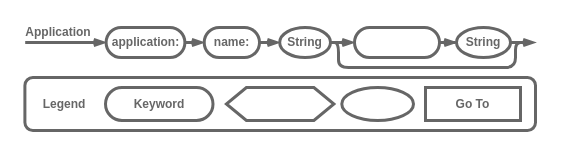
Image size: 563x149. Some labels were removed from this diagram. The box of each missing label's shape, as (x1, y1, x2, y2) in pixels:
description:: (352, 26, 440, 58)
expr: (340, 86, 414, 122)
Variable: (224, 86, 335, 122)
